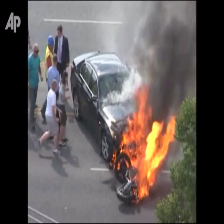fire_h: (119, 84, 176, 200)
fire_l: (116, 157, 129, 170), (110, 149, 116, 170)
